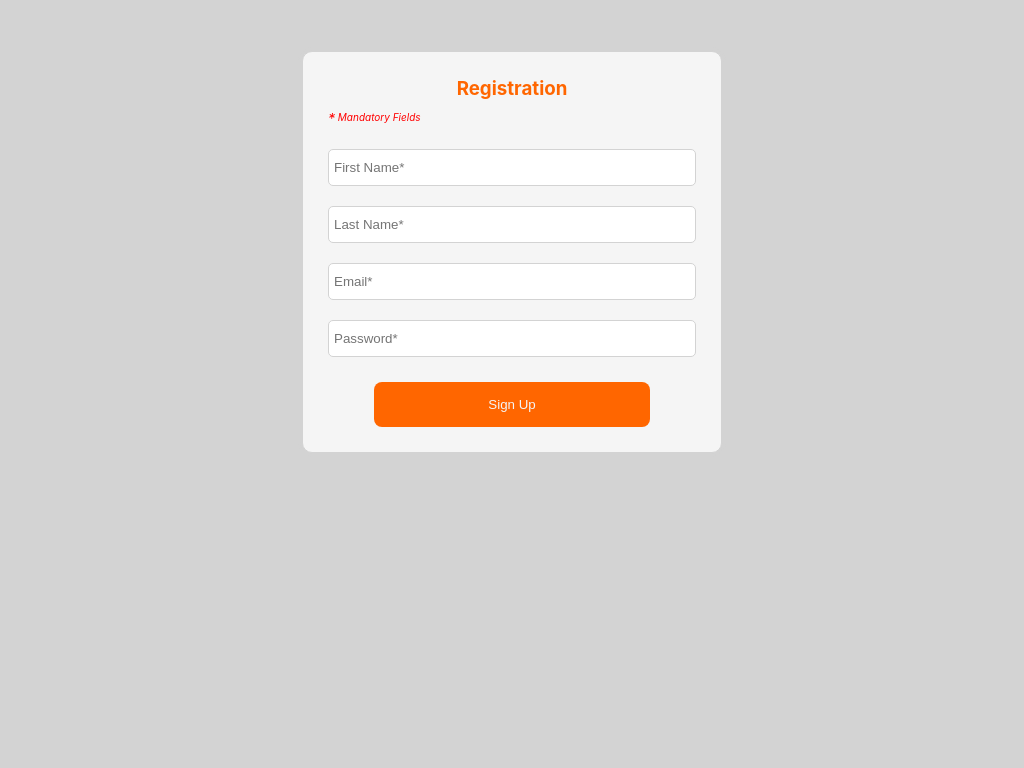
Test: Registration component › on submit › should display error on submit
The image size is (1024, 768).
In the field with test id "firstname-field": (512, 168) [328, 149, 696, 186], type "Dane"
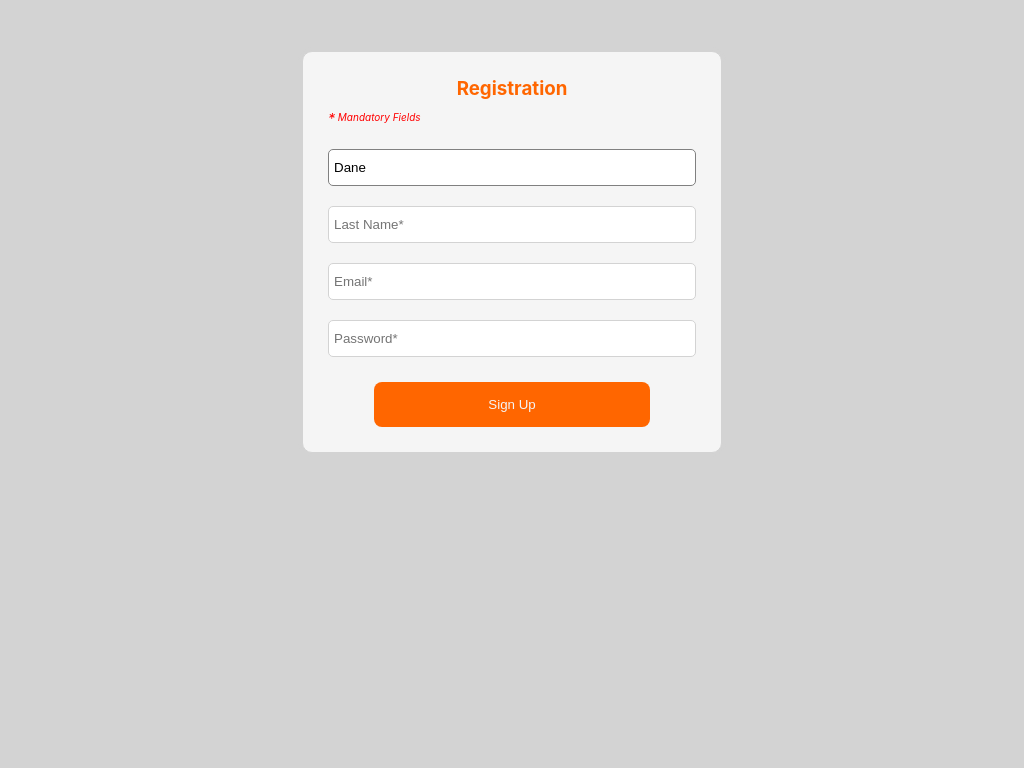
In the field with test id "lastname-field": (512, 225) [328, 206, 696, 243], type "Jonas"
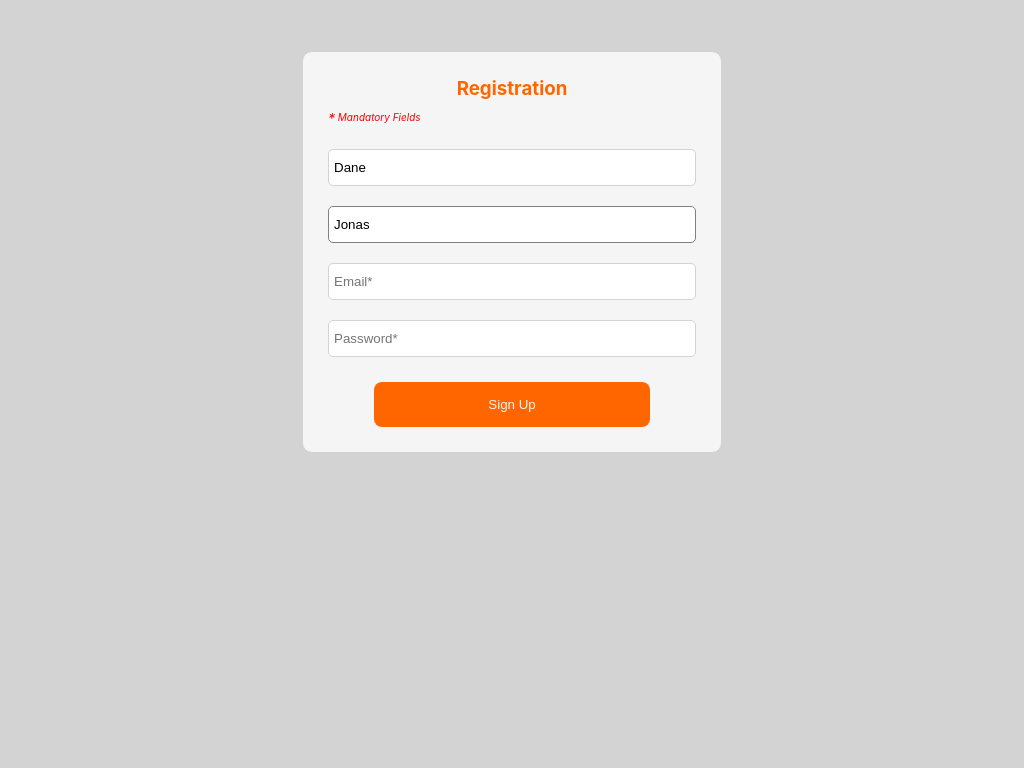
In the field with test id "email-field": (512, 282) [328, 263, 696, 300], type "Dane.Jonas@gmail.com"
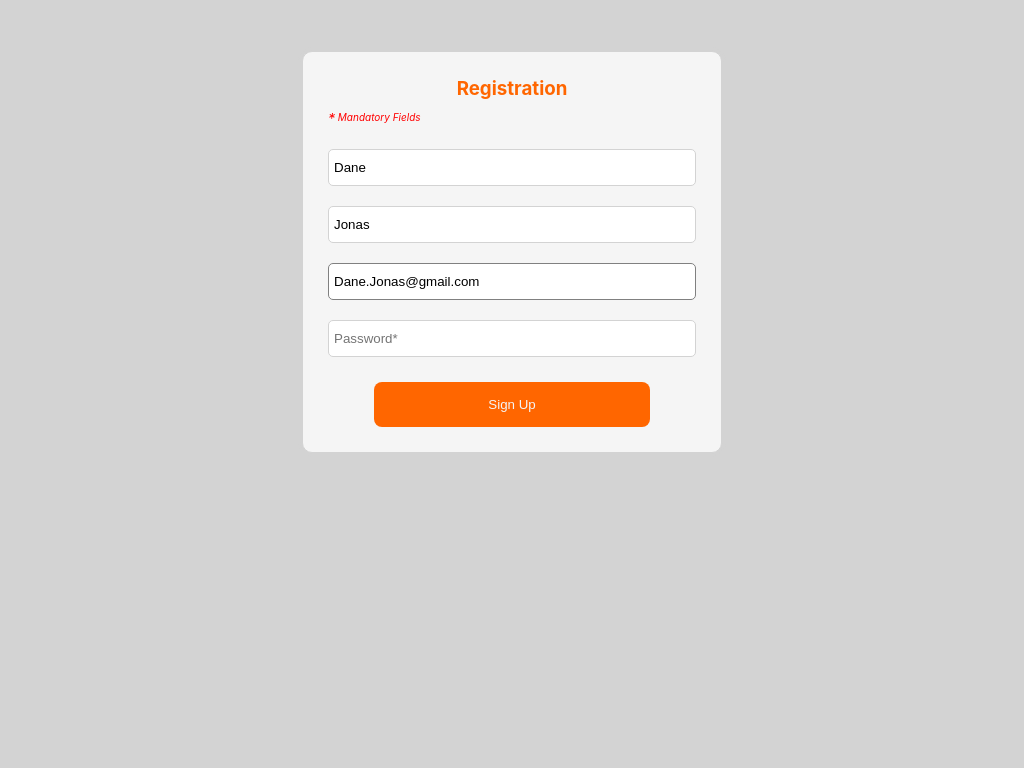
In the password field with test id "password-field": (512, 339) [328, 320, 696, 357], type "Password@123"
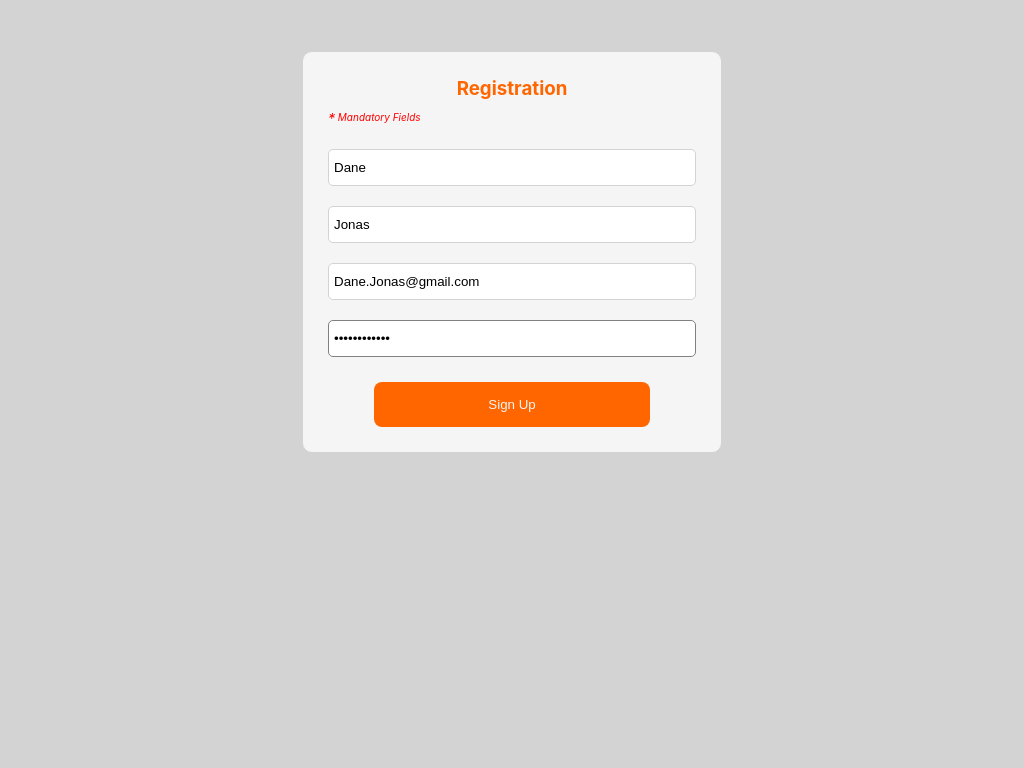
Click the button with test id "submit": (512, 405) [374, 382, 650, 427]
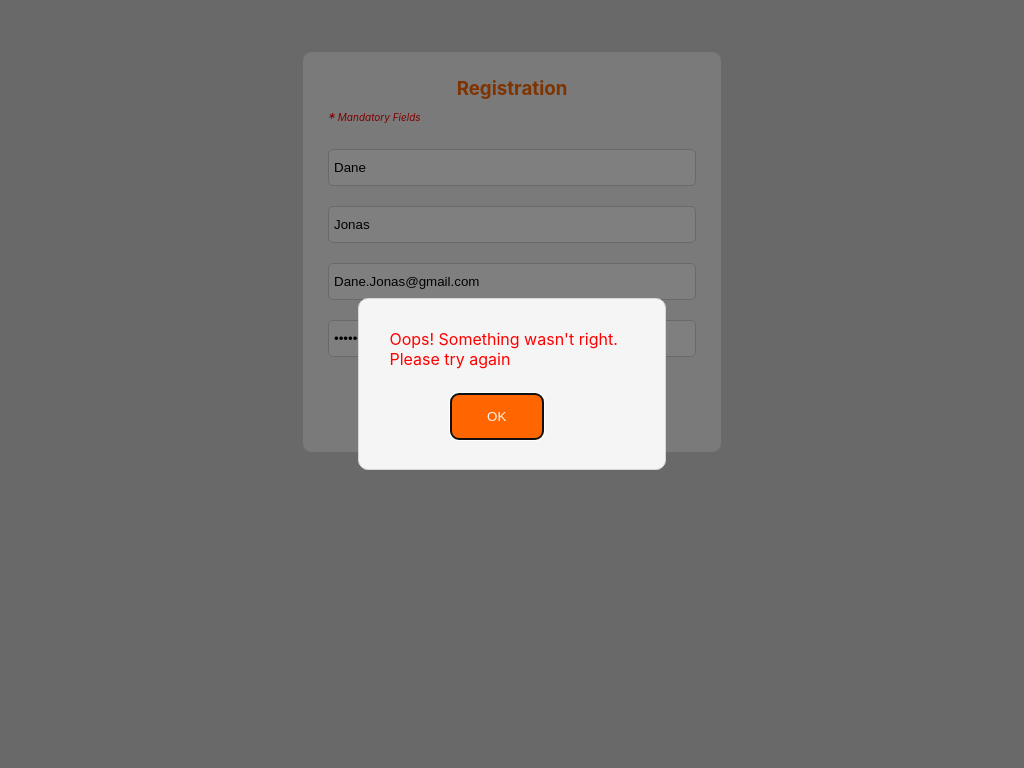
Expected: the text "Oops! Something wasn't right. Please try again" is shown, [389, 329, 635, 369]
